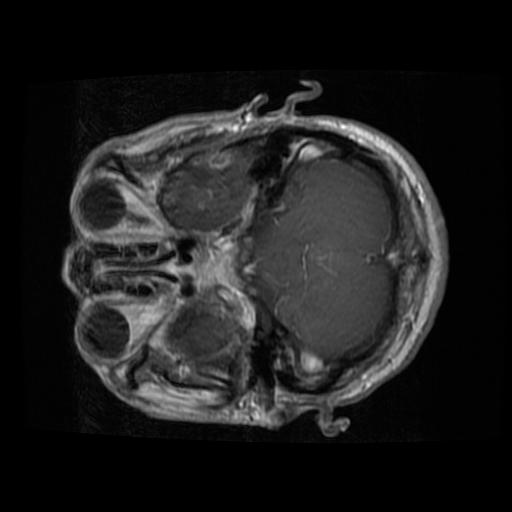glioma: (191, 147, 231, 174)
